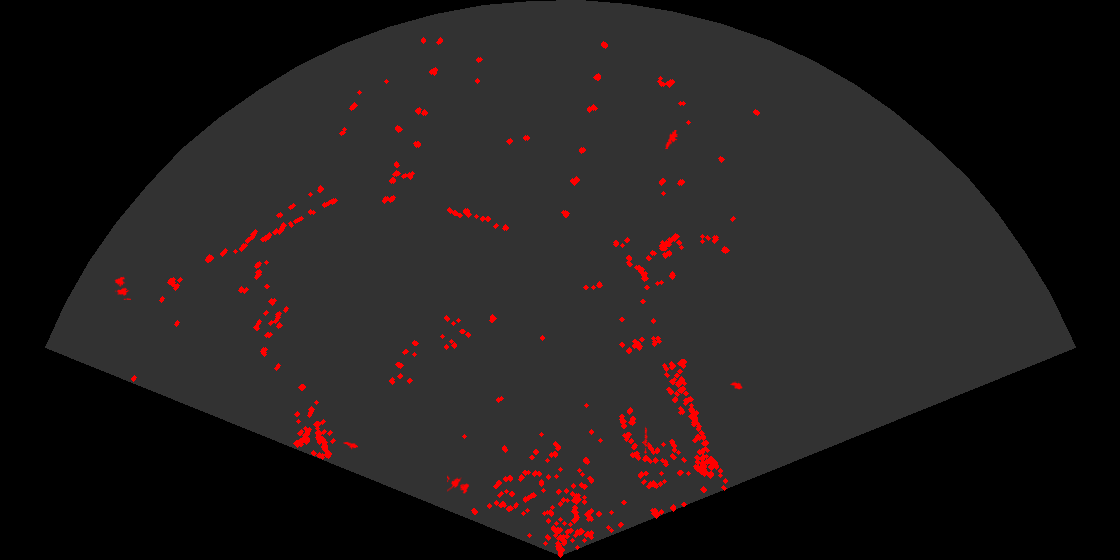AUV: (729, 381, 744, 391)
cage: (447, 474, 471, 495), (113, 275, 131, 300)
chain: (643, 426, 649, 454)
frogman: (664, 130, 679, 151), (343, 440, 358, 451)
